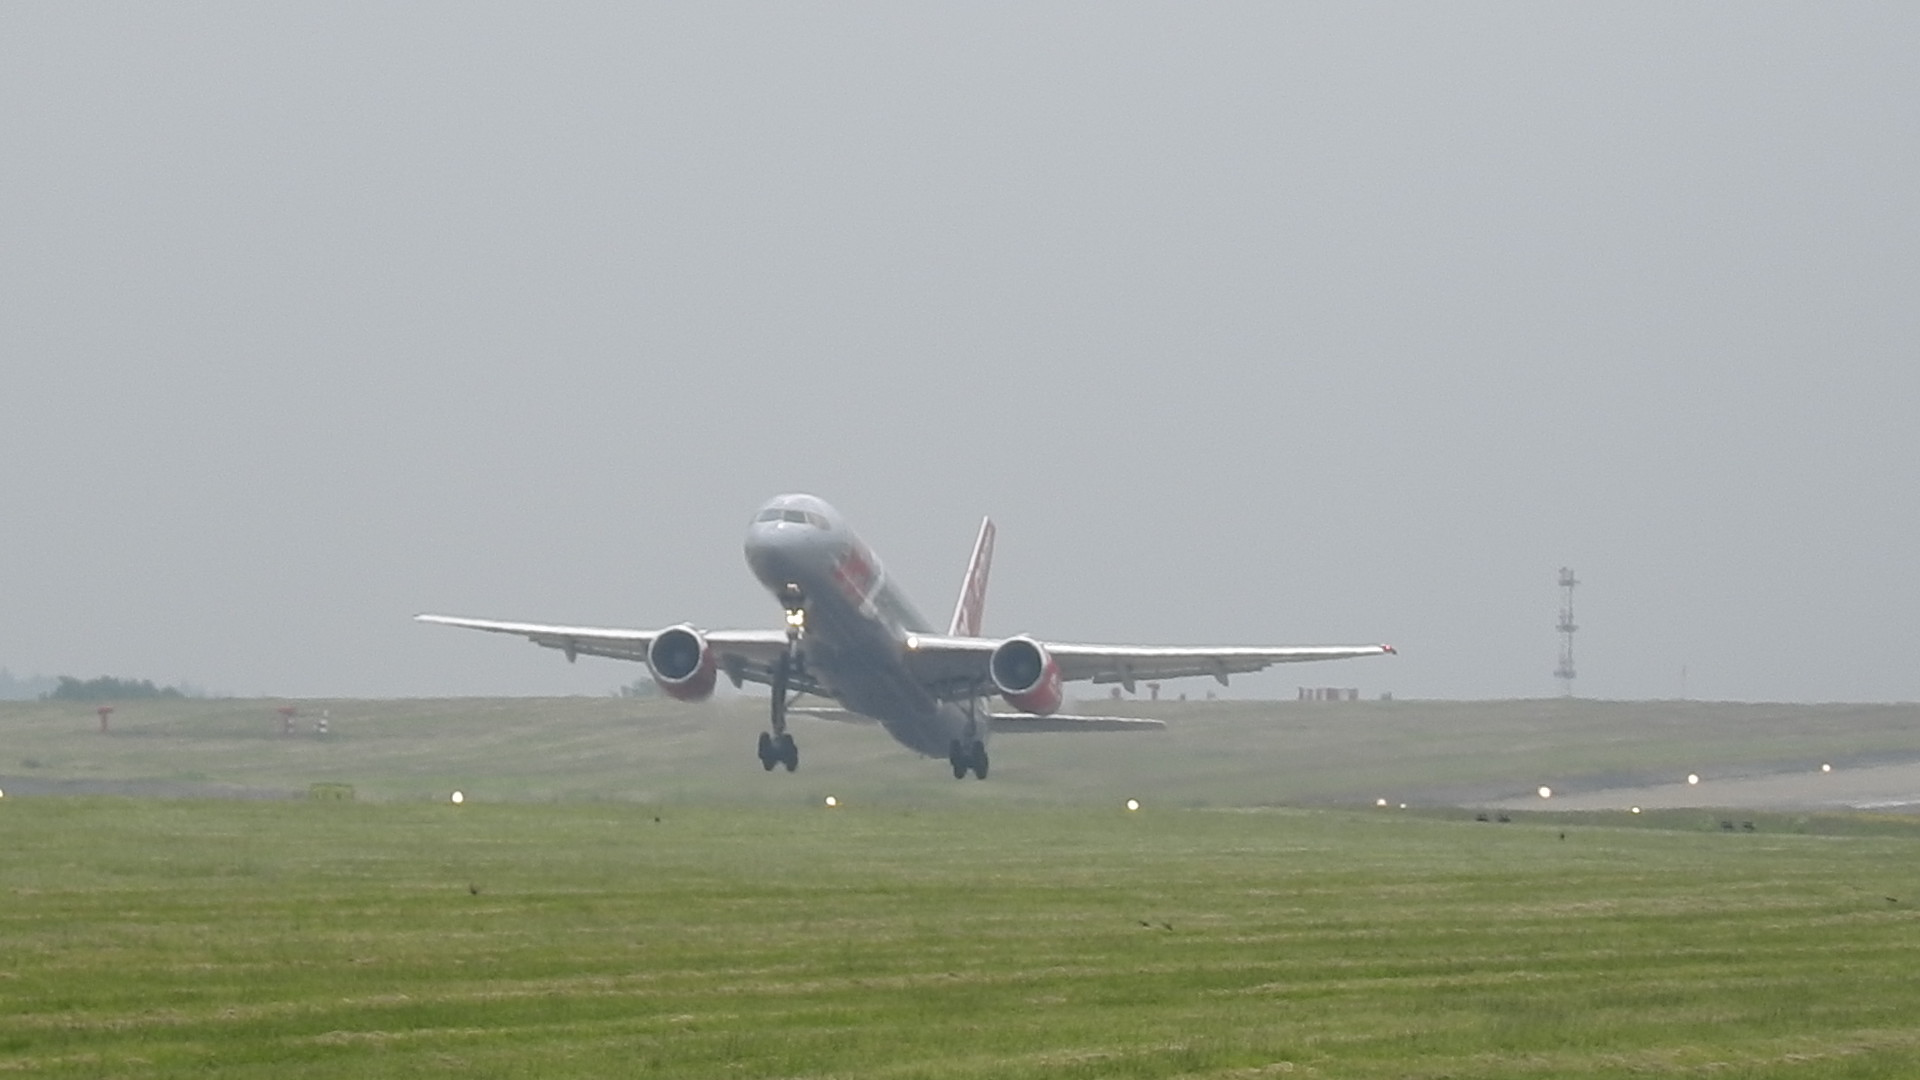aeroplane: (394, 487, 1428, 793)
